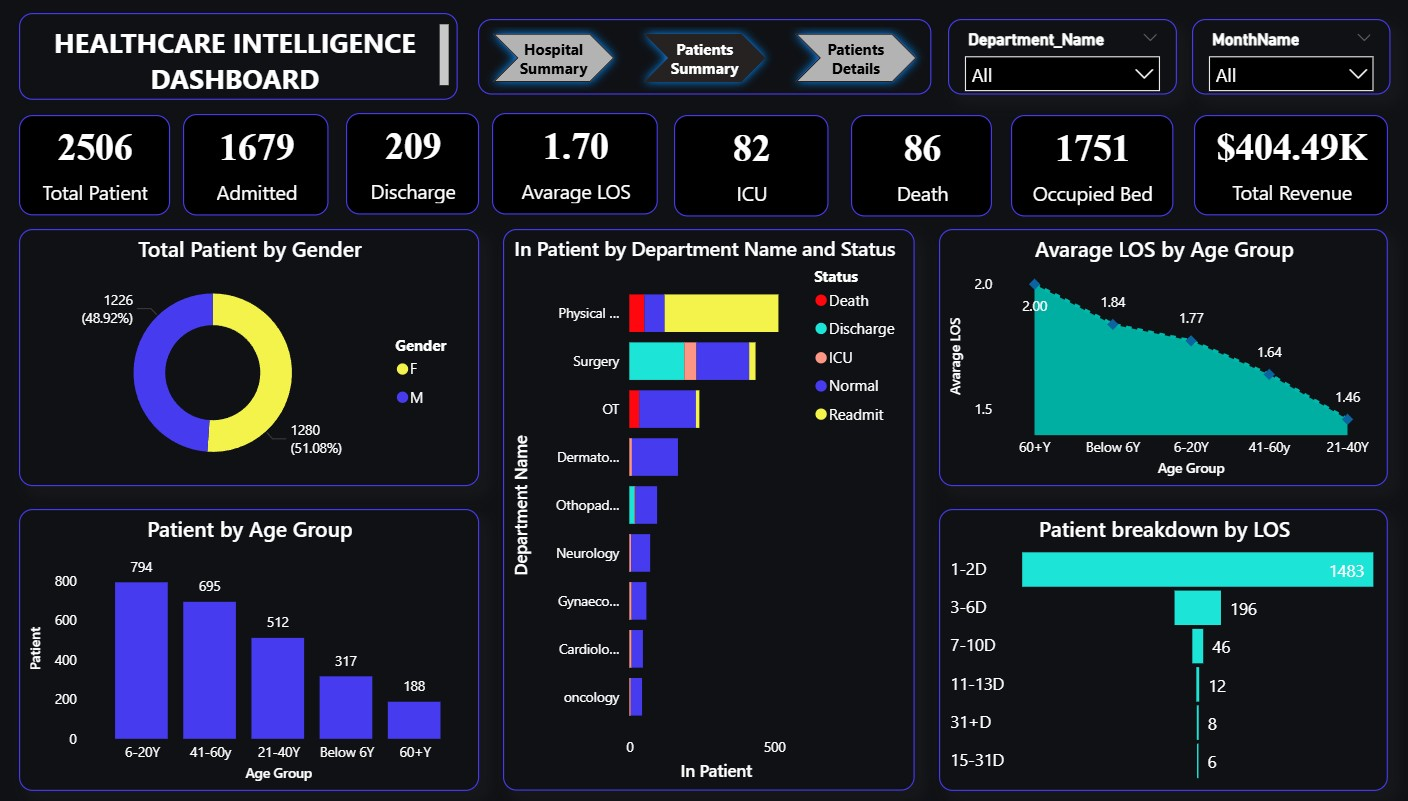

The page's visual inventory and layout, read from the dashboard file:
{"tool":"powerbi","page":{"name":"Patients Summary ","canvas":[1280,720],"ordinal":1},"visuals":[{"type":"cardVisual","fields":{"Data":["Measure.Total Patient"]},"box":[31.9,107.3,133.9,88.7],"z":0},{"type":"cardVisual","fields":{"Data":["Measure.In Patient"]},"box":[177.3,106.4,129.5,89.6],"z":1000},{"type":"cardVisual","fields":{"Data":["Measure.Total Discharge"]},"box":[321.9,105.5,117.9,90.4],"z":2000},{"type":"cardVisual","fields":{"Data":["Measure.Avarage LOS"]},"box":[451.3,105.5,147.2,90.4],"z":3000},{"type":"cardVisual","fields":{"Data":["Measure.ICU"]},"box":[612.7,107.3,136.6,90.4],"z":4000},{"type":"cardVisual","fields":{"Data":["Measure.Death"]},"box":[769.7,107.3,125,90.4],"z":5000},{"type":"cardVisual","fields":{"Data":["Measure.Occupied Bed"]},"box":[911.5,107.3,143.6,89.6],"z":6000},{"type":"cardVisual","fields":{"Data":["Measure.Total Revenue"]},"box":[1073.8,107.3,172,88.7],"z":7000},{"type":"donutChart","fields":{"Category":["Detail data dataset.Gender"],"Y":["Measure.Total Patient"]},"box":[31.6,208.6,407.6,227.8],"z":8000},{"type":"columnChart","fields":{"Y":["Measure.Total Patient"],"Category":["Detail data dataset.Age Bucket"]},"box":[31.6,457,407.6,249.8],"z":9000},{"type":"areaChart","fields":{"Y":["Measure.Avarage LOS"],"Category":["Detail data dataset.Age Bucket"]},"box":[848.1,208.6,398,227.8],"z":10000},{"type":"barChart","fields":{"Category":["Department.Department_Name"],"Y":["Measure.In Patient"],"Series":["Detail data dataset.Status"]},"box":[461.1,208.6,365,498.2],"z":11000},{"type":"funnel","title":"Patient breakdown by LOS","fields":{"Y":["Measure.Total Patient"],"Category":["Detail data dataset.Custom"]},"box":[847.7,456.7,398.1,250],"z":12000},{"type":"textbox","box":[31.9,16.8,389.3,77.1],"z":13000},{"type":"slicer","fields":{"Values":["Department.Department_Name"]},"box":[855.7,22.2,203.1,67.4],"z":14000},{"type":"slicer","fields":{"Values":["Calendar_date.MonthName"]},"box":[1072,22.2,176.5,67.4],"z":15000},{"type":"pageNavigator","box":[438.9,22.2,401.7,67.4],"z":16000}]}

Visuals, with their boxes in screenshot pixels (x1, y1, x2, y2), scaled from the page's 1280x720 canvas onto the 1408x801 screenshot:
cardVisual - Measure.Total Patient: box=[35, 119, 182, 218]
cardVisual - Measure.In Patient: box=[195, 118, 337, 218]
cardVisual - Measure.Total Discharge: box=[354, 117, 484, 218]
cardVisual - Measure.Avarage LOS: box=[496, 117, 658, 218]
cardVisual - Measure.ICU: box=[674, 119, 824, 220]
cardVisual - Measure.Death: box=[847, 119, 984, 220]
cardVisual - Measure.Occupied Bed: box=[1003, 119, 1161, 219]
cardVisual - Measure.Total Revenue: box=[1181, 119, 1370, 218]
donutChart - Detail data dataset.Gender x Measure.Total Patient: box=[35, 232, 483, 485]
columnChart - Measure.Total Patient x Detail data dataset.Age Bucket: box=[35, 508, 483, 786]
areaChart - Measure.Avarage LOS x Detail data dataset.Age Bucket: box=[933, 232, 1371, 485]
barChart - Department.Department_Name x Measure.In Patient: box=[507, 232, 909, 786]
"Patient breakdown by LOS" funnel: box=[932, 508, 1370, 786]
textbox: box=[35, 19, 463, 104]
slicer - Department.Department_Name: box=[941, 25, 1165, 100]
slicer - Calendar_date.MonthName: box=[1179, 25, 1373, 100]
pageNavigator: box=[483, 25, 925, 100]
